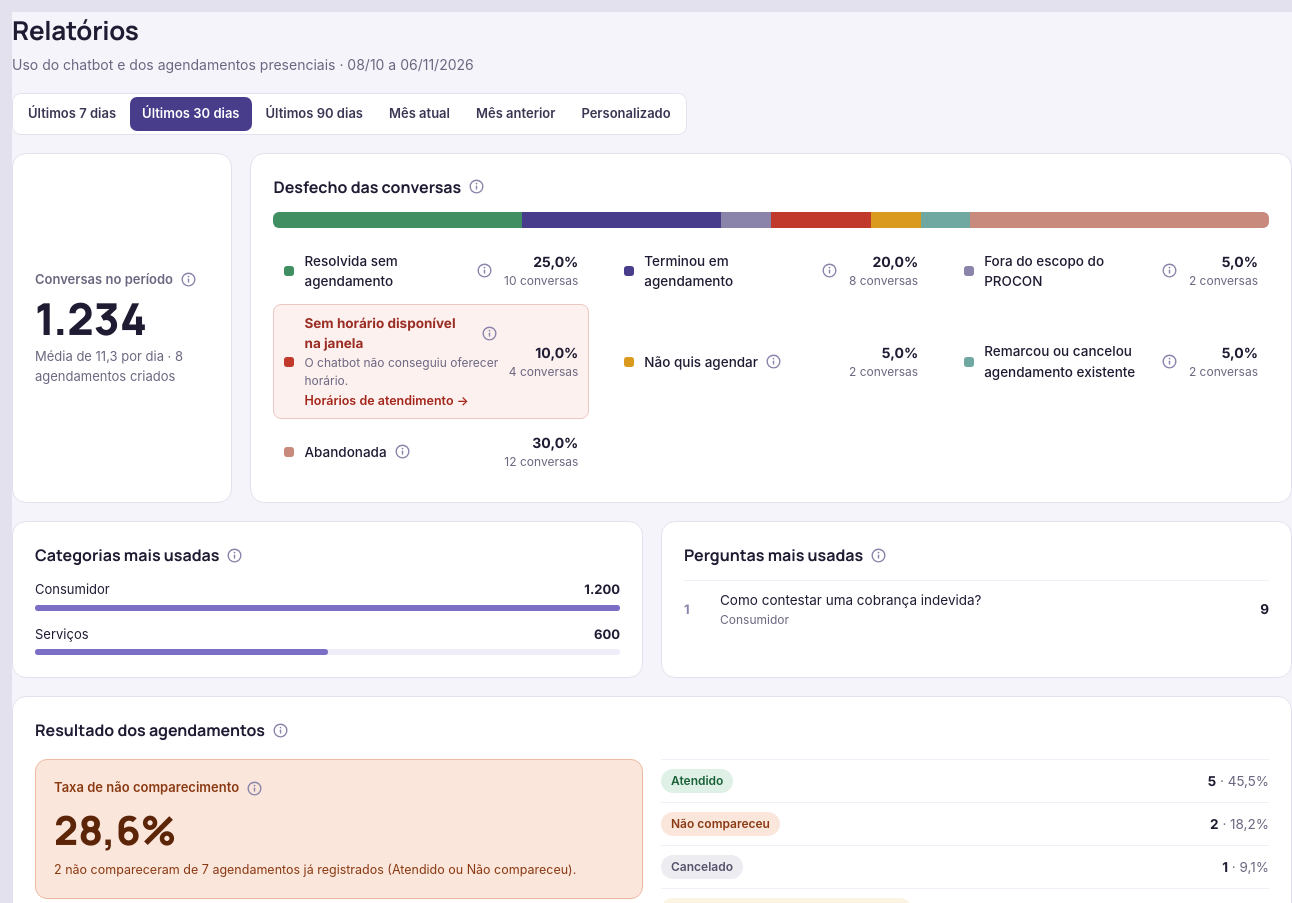
Reports: Categorias mais usadas › explica a contagem com a regra de conversas distintas
Expected: the heading "Desfecho das conversas" is shown, 274,176 -> 486,198
Click the button named "Definição das categorias mais usadas" at (235, 555), box 226,548 -> 244,563
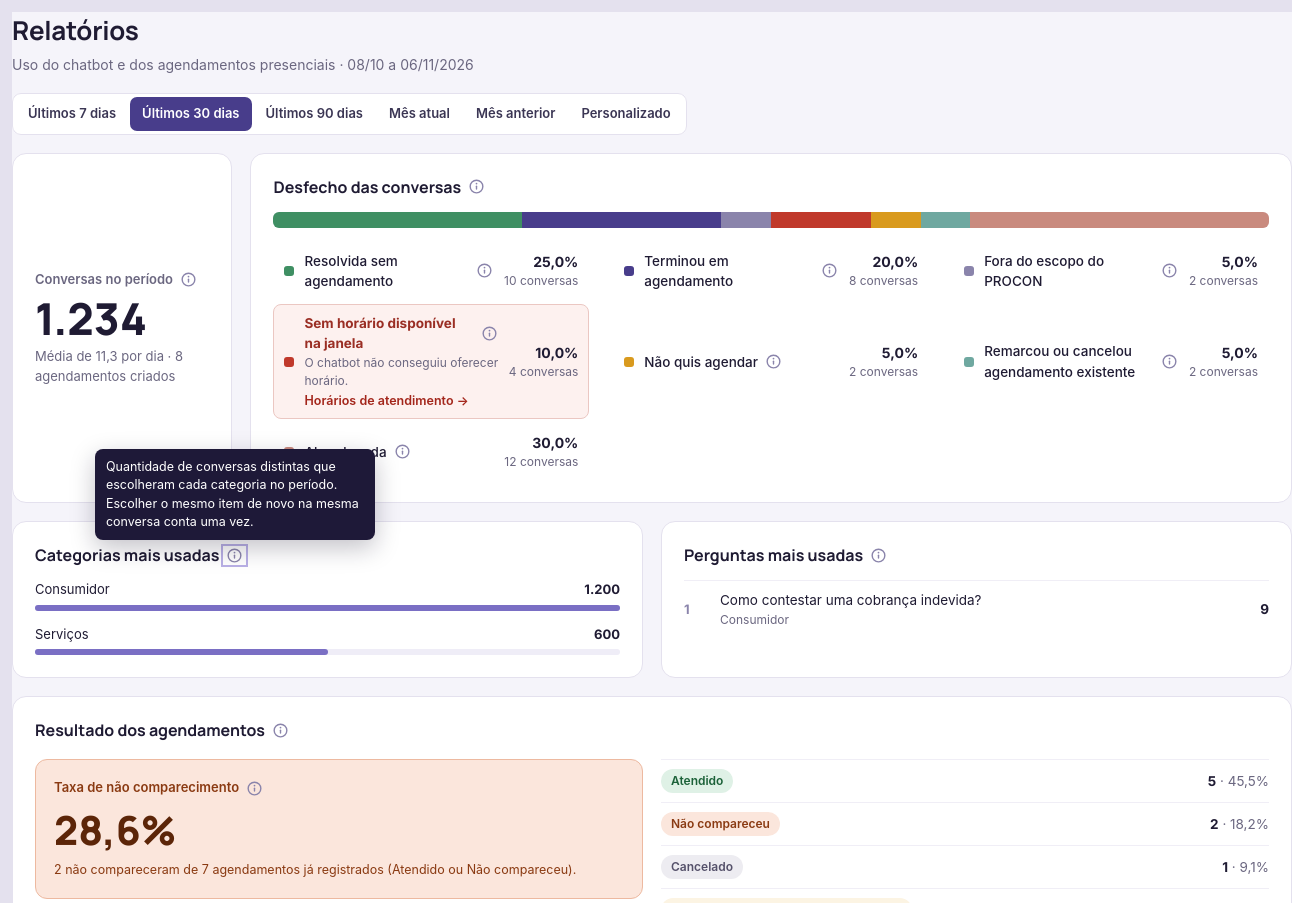
Result: the tooltip shows "Quantidade de conversas distintas que escolheram cada categoria no período. Escolher o mesmo item de novo na mesma conversa conta uma vez." at 106,459 -> 359,529
